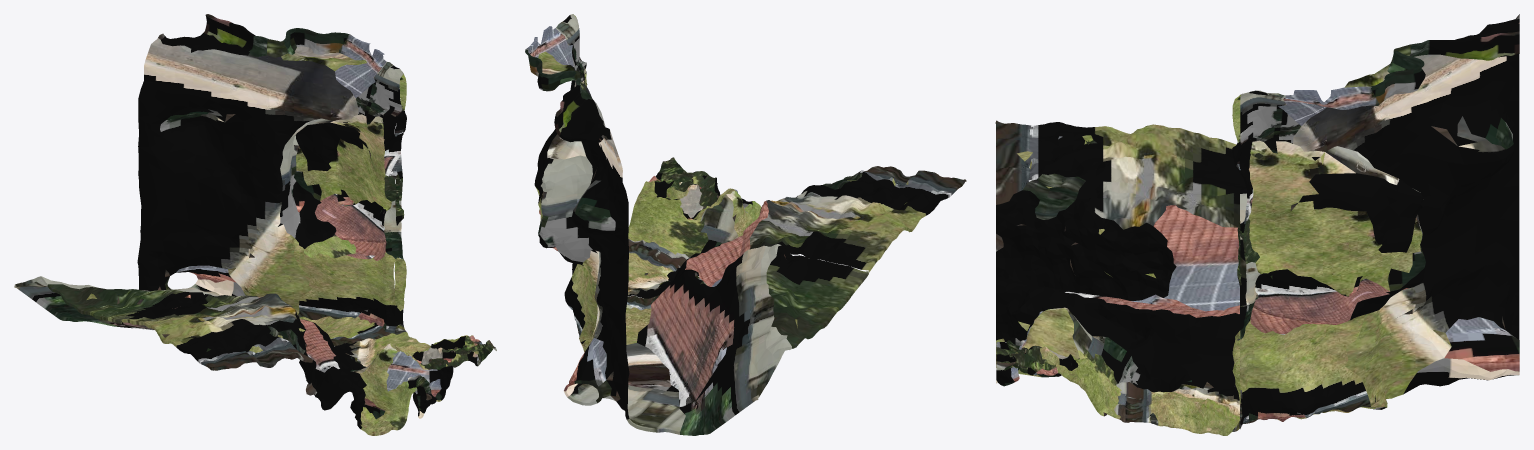
The picture shows the model from 3 angles, left to right: view 1: azimuth 30°, elevation 25°; view 2: azimuth 150°, elevation 25°; view 3: azimuth 270°, elevation 25°; orthographic projection. The views are drawn at different scales.
Parts seen in each view (by area): view 1: node_209; view 2: node_209; view 3: node_209.
Boxes of the visible parts, box(x1,y1,x2,y2) form: node_209: box(14, 14, 496, 435); node_209: box(525, 14, 966, 435); node_209: box(995, 14, 1519, 435).
Size of the model in its own units: 9.08 by 8.57 by 10.99.
Materials: 1 (1 with a texture image).
